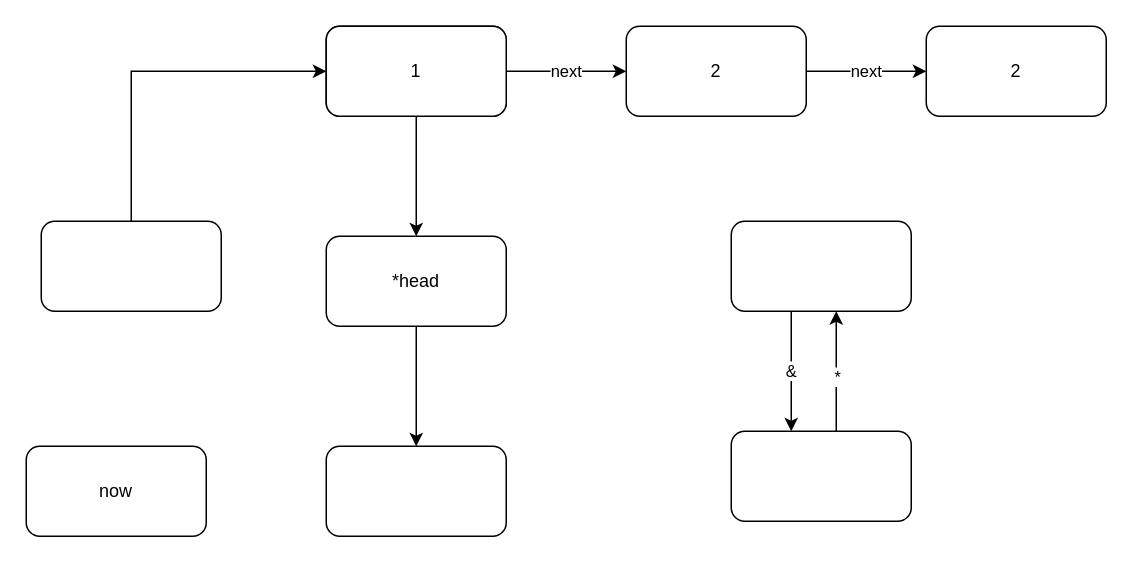
Some shapes in this 1133 by 563 pixel diagram are drawn without their labels. The shapes that lost their labels are listed below. From the top down, each one's centre as x and y in pixels, then its label:
At (130,265): "*rm".
At (415,490): "head".
At (820,475): "ptr".
